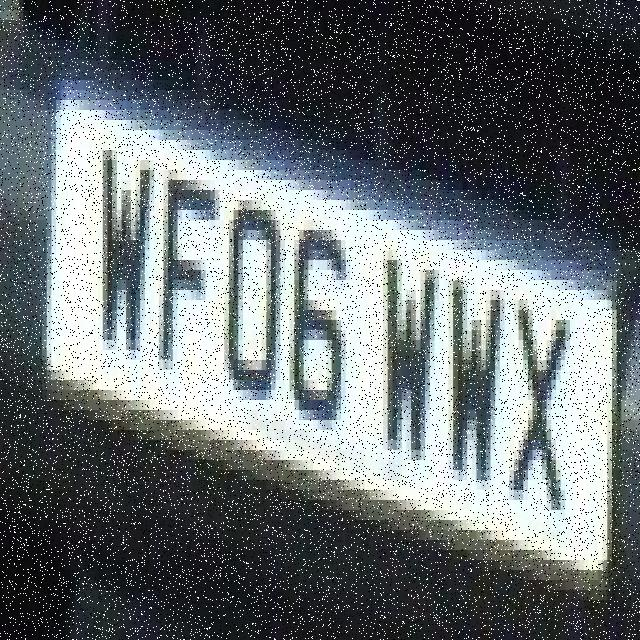licenseplate: (28, 40, 622, 634)
